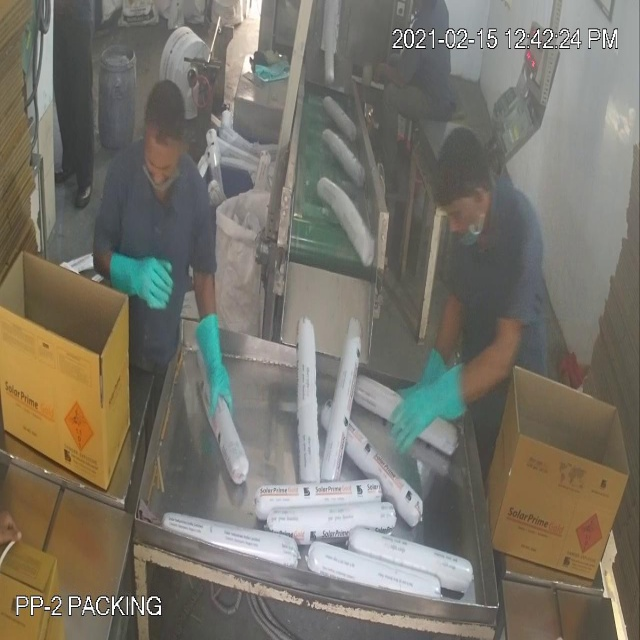Guantes: (383, 347, 470, 462), (101, 236, 173, 320), (190, 296, 233, 427)
